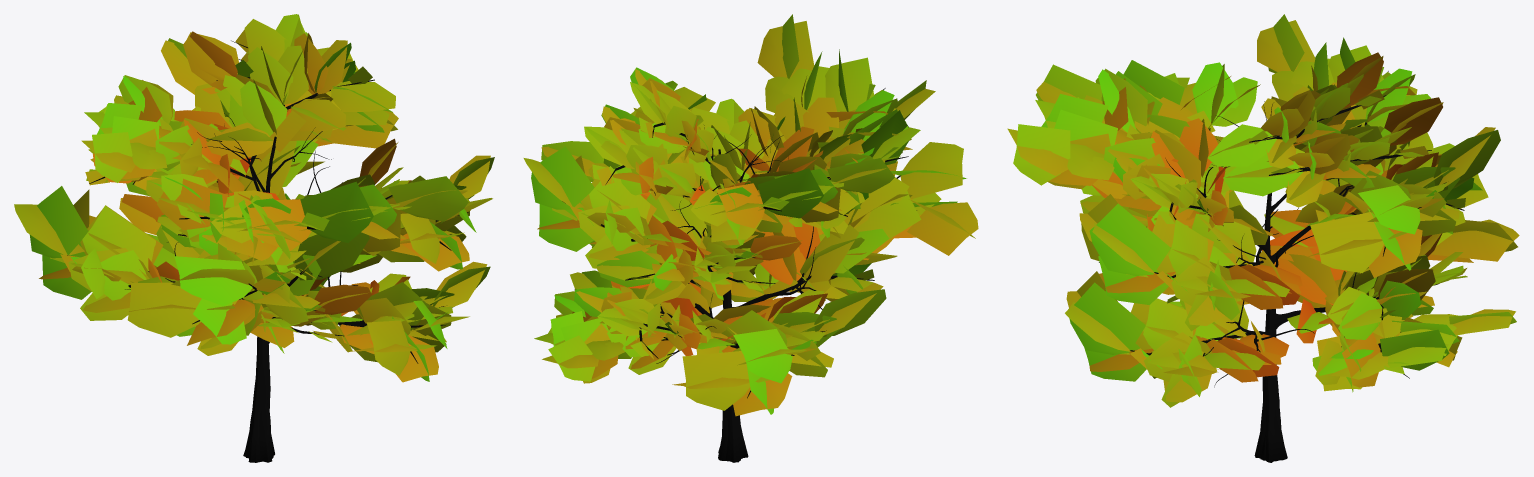
The model's file is Tree_med_1.glb.
3 views of the same model, side by side, from view 1: azimuth 30°, elevation 25°; view 2: azimuth 150°, elevation 25°; view 3: azimuth 270°, elevation 25° (orthographic). The views are drawn at different scales.
Visible parts, largest first — view 1: Tree med 1; view 2: Tree med 1; view 3: Tree med 1.
Part boxes in pixels (x1,y1,x2,y2): Tree med 1: [14, 14, 494, 462]; Tree med 1: [523, 14, 978, 462]; Tree med 1: [1007, 14, 1519, 462].
Bounding box in the file's own units: 35.07 × 32.55 × 37.28.
